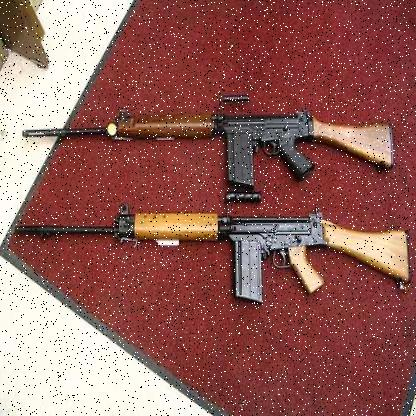rifle: (8, 91, 400, 201), (8, 203, 415, 303)
